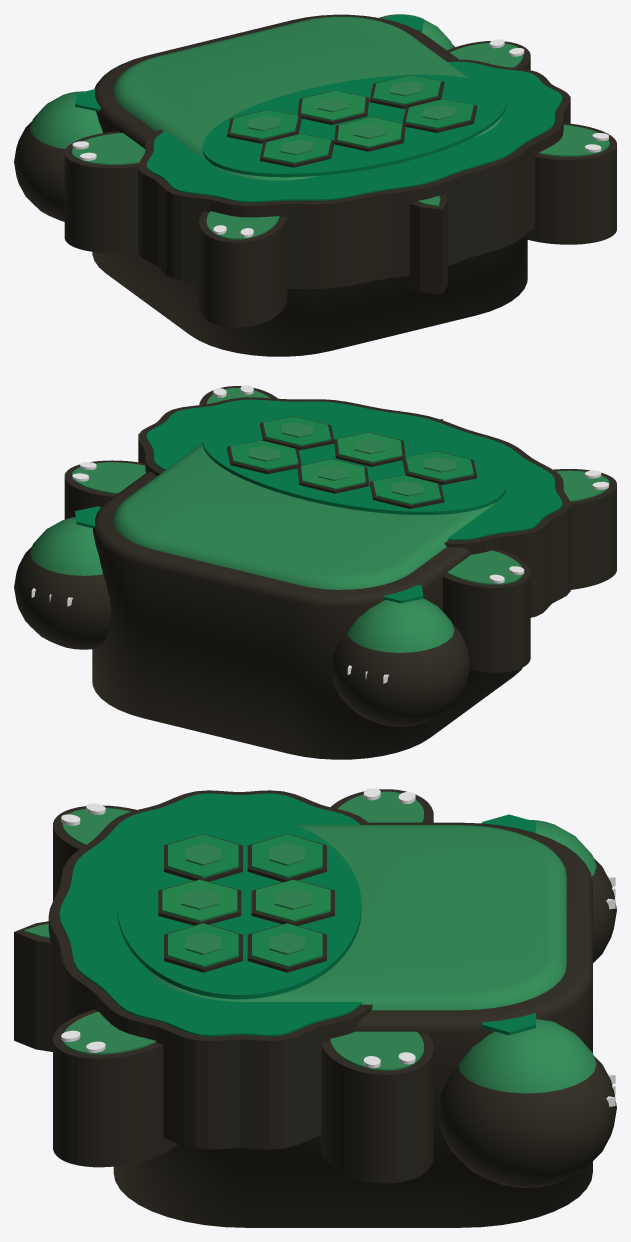
Rendered from body_tartaruga.fbx.
3 views of the same model, one above another, from view 1: azimuth 30°, elevation 25°; view 2: azimuth 150°, elevation 25°; view 3: azimuth 270°, elevation 25° (orthographic). The views are drawn at different scales.
Visible parts, largest first — view 1: body_tartaruga_corpo, body_tartaruga_mao_esq, body_tartaruga_mao; view 2: body_tartaruga_corpo, body_tartaruga_mao_esq, body_tartaruga_mao; view 3: body_tartaruga_corpo, body_tartaruga_mao, body_tartaruga_mao_esq.
Part boxes in pixels (box(x1,y1,x2,y2)): body_tartaruga_corpo: box(64, 14, 616, 356); body_tartaruga_mao_esq: box(14, 89, 102, 221); body_tartaruga_mao: box(379, 14, 454, 50); body_tartaruga_corpo: box(64, 385, 616, 759); body_tartaruga_mao_esq: box(331, 584, 470, 726); body_tartaruga_mao: box(14, 506, 111, 649); body_tartaruga_corpo: box(14, 788, 592, 1227); body_tartaruga_mao: box(438, 1013, 616, 1187); body_tartaruga_mao_esq: box(482, 814, 616, 962).
Size of the model in its own units: 5.64 by 2.1 by 5.03.
Materials: 1 (1 with a texture image).
